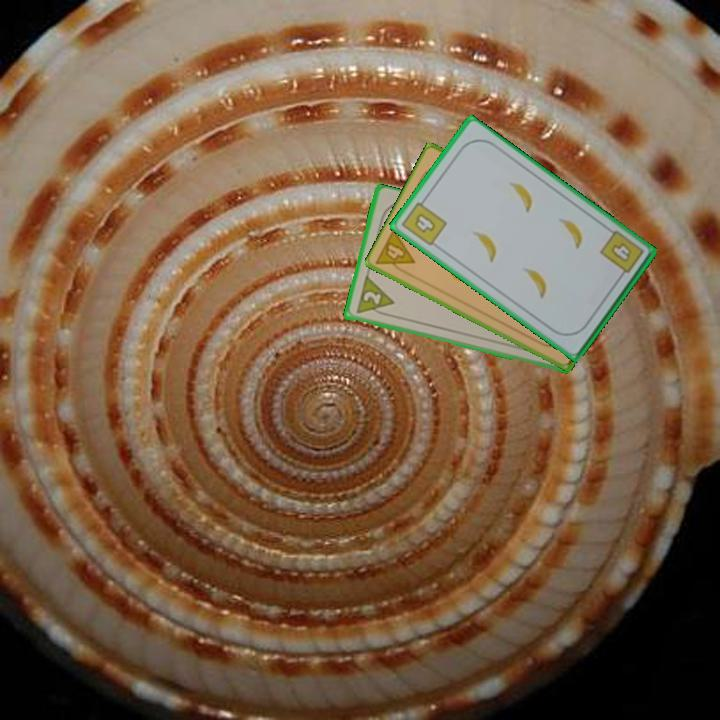2p: (352, 274, 397, 320)
4b: (398, 194, 450, 249), (596, 227, 647, 282)
4p: (372, 225, 418, 279)
